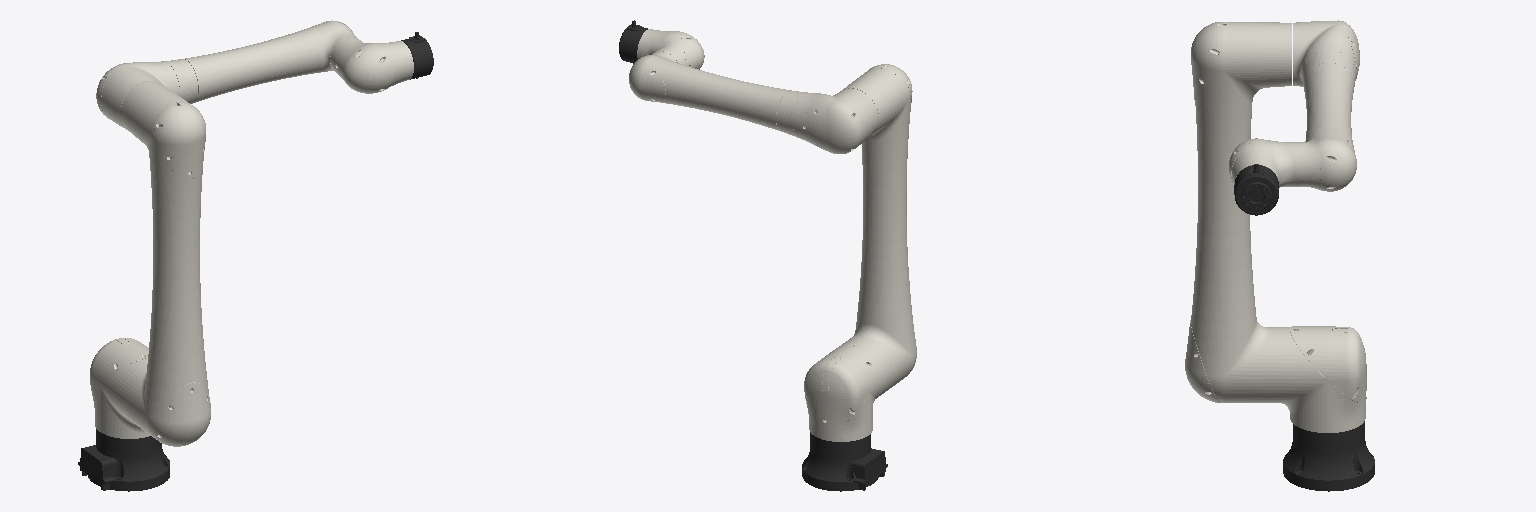
URDF robot description (fanuc_crx10ial):
<?xml version="1.0" encoding="UTF-8"?>
<!-- =================================================================================== -->
<!-- |    This document was autogenerated by xacro from urdf/crx10ial.xacro            | -->
<!-- |    EDITING THIS FILE BY HAND IS NOT RECOMMENDED                                 | -->
<!-- =================================================================================== -->
<robot name="fanuc_crx10ial">
  <!-- links: main serial chain -->
  <link name="base_link">
  <visual>
  <origin rpy="-1.5707 0 0" xyz="0 0 0"/>
  <geometry>
  <mesh filename="package://fanuc_crx10ia_support/meshes/crx10ial/visual/base_link.stl" scale="1 1 1"/>
  </geometry>
  <material name="">
  <color rgba="0.23921568627450981 0.23921568627450981 0.23921568627450981 1.0"/>
  </material>
  </visual>
  <collision>
  <origin rpy="0 0 0" xyz="0 0 0"/>
  <geometry>
  <mesh filename="package://fanuc_crx10ia_support/meshes/crx10ial/collision/base_link.stl"/>
  </geometry>
  </collision>
  </link>
  <link name="link_1">
  <visual>
  <origin rpy="0 0 3.14" xyz="0 -0.12 0"/>
  <geometry>
  <mesh filename="package://fanuc_crx10ia_support/meshes/crx10ial/visual/link_1.stl" scale="1 1 1"/>
  </geometry>
  <material name="">
  <color rgba="0.86 0.85 0.81 1.0"/>
  </material>
  </visual>
  <collision>
  <origin rpy="0 0 0" xyz="0 0 0"/>
  <geometry>
  <mesh filename="package://fanuc_crx10ia_support/meshes/crx10ial/collision/link_1.stl"/>
  </geometry>
  </collision>
  </link>
  <link name="link_2">
  <visual>
  <origin rpy="0 0 0" xyz="0 0 0"/>
  <geometry>
  <mesh filename="package://fanuc_crx10ia_support/meshes/crx10ial/visual/link_2.stl" scale="1 1 1"/>
  </geometry>
  <material name="">
  <color rgba="0.86 0.85 0.81 1.0"/>
  </material>
  </visual>
  <collision>
  <origin rpy="0 0 0" xyz="0 0 0"/>
  <geometry>
  <mesh filename="package://fanuc_crx10ia_support/meshes/crx10ial/collision/link_2.stl"/>
  </geometry>
  </collision>
  </link>
  <link name="link_3">
  <visual>
  <origin rpy="0 0 0" xyz="0 0 0"/>
  <geometry>
  <mesh filename="package://fanuc_crx10ia_support/meshes/crx10ial/visual/link_3.stl" scale="1 1 1"/>
  </geometry>
  <material name="">
  <color rgba="0.86 0.85 0.81 1.0"/>
  </material>
  </visual>
  <collision>
  <origin rpy="0 0 0" xyz="0 0 0"/>
  <geometry>
  <mesh filename="package://fanuc_crx10ia_support/meshes/crx10ial/collision/link_3.stl"/>
  </geometry>
  </collision>
  </link>
  <link name="link_4">
  <visual>
  <origin rpy="0 0 0" xyz="0.54 0 0"/>
  <geometry>
  <mesh filename="package://fanuc_crx10ia_support/meshes/crx10ial/visual/link_4.stl" scale="1 1 1"/>
  </geometry>
  <material name="">
  <color rgba="0.86 0.85 0.81 1.0"/>
  </material>
  </visual>
  <collision>
  <origin rpy="0 0 0" xyz="0 0 0"/>
  <geometry>
  <mesh filename="package://fanuc_crx10ia_support/meshes/crx10ial/collision/link_4.stl"/>
  </geometry>
  </collision>
  </link>
  <link name="link_5">
  <visual>
  <origin rpy="0 0 0" xyz="0 0 0"/>
  <geometry>
  <mesh filename="package://fanuc_crx10ia_support/meshes/crx10ial/visual/link_5.stl"/>
  </geometry>
  <material name="">
  <color rgba="0.86 0.85 0.81 1.0"/>
  </material>
  </visual>
  <collision>
  <origin rpy="0 0 0" xyz="0 0 0"/>
  <geometry>
  <mesh filename="package://fanuc_crx10ia_support/meshes/crx10ial/collision/link_5.stl"/>
  </geometry>
  </collision>
  </link>
  <link name="link_6">
  <visual>
  <origin rpy="0 0 0" xyz="0 0 0"/>
  <geometry>
  <mesh filename="package://fanuc_crx10ia_support/meshes/crx10ial/visual/link_6.stl"/>
  </geometry>
  <material name="">
  <color rgba="0.23921568627450981 0.23921568627450981 0.23921568627450981 1.0"/>
  </material>
  </visual>
  <collision>
  <origin rpy="0 0 0" xyz="0 0 0"/>
  <geometry>
  <mesh filename="package://fanuc_crx10ia_support/meshes/crx10ial/collision/link_6.stl"/>
  </geometry>
  </collision>
  </link>
  <!-- joints: main serial chain -->
  <joint name="joint_1" type="revolute">
  <origin rpy="0 0 0" xyz="0 0 0.245"/>
  <parent link="base_link"/>
  <child link="link_1"/>
  <axis xyz="0 0 1"/>
  <limit effort="0" lower="-3.141592653589793" upper="3.141592653589793" velocity="2.0943951023931953"/>
  </joint>
  <joint name="joint_2" type="revolute">
  <origin rpy="0 0 0" xyz="0 0 0"/>
  <parent link="link_1"/>
  <child link="link_2"/>
  <axis xyz="0 1 0"/>
  <limit effort="0" lower="-3.141592653589793" upper="3.141592653589793" velocity="2.0943951023931953"/>
  </joint>
  <joint name="joint_3" type="revolute">
  <origin rpy="0 0 0" xyz="0 0 0.710"/>
  <parent link="link_2"/>
  <child link="link_3"/>
  <axis xyz="0 -1 0"/>
  <limit effort="0" lower="-4.71238898038469" upper="4.71238898038469" velocity="3.141592653589793"/>
  </joint>
  <joint name="joint_4" type="revolute">
  <origin rpy="0 0 0" xyz="0 0 0"/>
  <parent link="link_3"/>
  <child link="link_4"/>
  <axis xyz="-1 0 0"/>
  <limit effort="0" lower="-3.3161255787892263" upper="3.3161255787892263" velocity="3.141592653589793"/>
  </joint>
  <joint name="joint_5" type="revolute">
  <origin rpy="0 0 0" xyz="0.540 -0.150 0"/>
  <parent link="link_4"/>
  <child link="link_5"/>
  <axis xyz="0 -1 0"/>
  <limit effort="0" lower="-3.141592653589793" upper="3.141592653589793" velocity="3.141592653589793"/>
  </joint>
  <joint name="joint_6" type="revolute">
  <origin rpy="0 0 0" xyz="0.160 0 0"/>
  <parent link="link_5"/>
  <child link="link_6"/>
  <axis xyz="-1 0 0"/>
  <limit effort="0" lower="-3.3161255787892263" upper="3.3161255787892263" velocity="3.141592653589793"/>
  </joint>
  <!-- ROS-Industrial 'base' frame: base_link to Fanuc World Coordinates transform -->
  <link name="base"/>
  <joint name="base_link-base" type="fixed">
  <origin rpy="0 0 0" xyz="0 0 0.245"/>
  <parent link="base_link"/>
  <child link="base"/>
  </joint>
  <!-- ROS-Industrial 'flange' frame: attachment point for EEF models -->
  <link name="flange"/>
  <joint name="joint_6-flange" type="fixed">
  <origin rpy="0 0 0" xyz="0 0 0"/>
  <parent link="link_6"/>
  <child link="flange"/>
  </joint>
  <!-- ROS-Industrial 'tool0' frame: all-zeros tool frame -->
  <link name="tool0"/>
  <joint name="link_6-tool0" type="fixed">
  <origin rpy="3.141592653589793 -1.5707963267948966 0" xyz="0 0 0"/>
  <parent link="flange"/>
  <child link="tool0"/>
  </joint>
</robot>

--- Facts derived from the render (not from the file) ---
3 views of the same robot in one strip: view 1: azimuth 30°, elevation 25°; view 2: azimuth 150°, elevation 25°; view 3: azimuth 270°, elevation 25° (orthographic).
Robot: fanuc_crx10ial — 10 links, 9 joints (6 revolute, 3 fixed); root link base_link; default pose: every joint at zero.
Links seen in each view (by area): view 1: link_2, link_4, link_1, base_link, link_5, link_3, link_6; view 2: link_2, link_1, link_4, link_3, base_link, link_5, link_6; view 3: link_2, link_1, link_4, base_link, link_3, link_5, link_6.
Boxes of the visible links, left/top/right/bottom form: link_2: left=121, top=81, right=210, bottom=446; link_4: left=185, top=20, right=357, bottom=102; link_1: left=90, top=338, right=150, bottom=438; base_link: left=78, top=429, right=169, bottom=491; link_5: left=330, top=37, right=413, bottom=93; link_3: left=96, top=59, right=197, bottom=129; link_6: left=401, top=32, right=433, bottom=79; link_2: left=843, top=64, right=916, bottom=390; link_1: left=804, top=337, right=894, bottom=441; link_4: left=629, top=51, right=789, bottom=130; link_3: left=776, top=88, right=878, bottom=153; base_link: left=802, top=432, right=887, bottom=491; link_5: left=637, top=29, right=704, bottom=69; link_6: left=619, top=20, right=647, bottom=63; link_2: left=1185, top=22, right=1291, bottom=402; link_1: left=1266, top=326, right=1366, bottom=432; link_4: left=1298, top=63, right=1356, bottom=191; base_link: left=1283, top=421, right=1374, bottom=491; link_3: left=1293, top=20, right=1359, bottom=86; link_5: left=1229, top=138, right=1297, bottom=187; link_6: left=1234, top=164, right=1278, bottom=215.
Bounding box of the posed robot: 0.7988 × 0.3934 × 1.03 m (x, y, z).
Meshes: 7 distinct files referenced, 7 mesh visuals loaded (7 binary STL).
